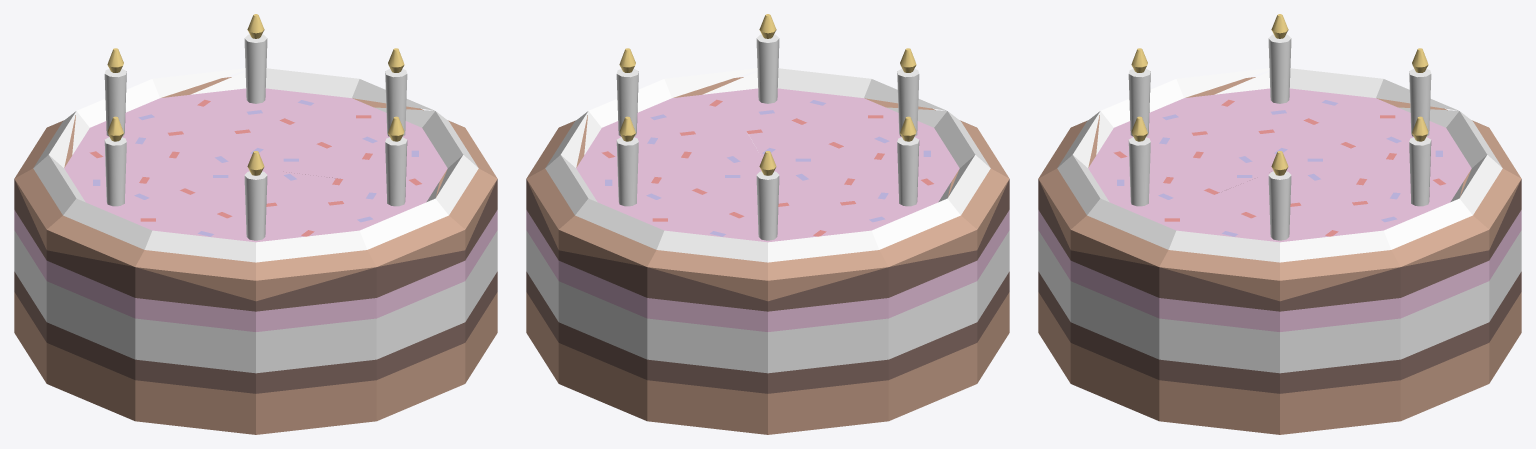
File: cakeBirthday.glb
3 renders of one model, left to right at view 1: azimuth 30°, elevation 25°; view 2: azimuth 150°, elevation 25°; view 3: azimuth 270°, elevation 25°, orthographic.
Visible parts, largest first — view 1: slice.003; view 2: slice.003; view 3: slice.003.
Part boxes in pixels (x1,y1,x2,y2): slice.003: [14, 14, 497, 434]; slice.003: [526, 14, 1009, 434]; slice.003: [1038, 14, 1521, 434].
Size of the model in its own units: 0.6392 by 0.3638 by 0.6392.
